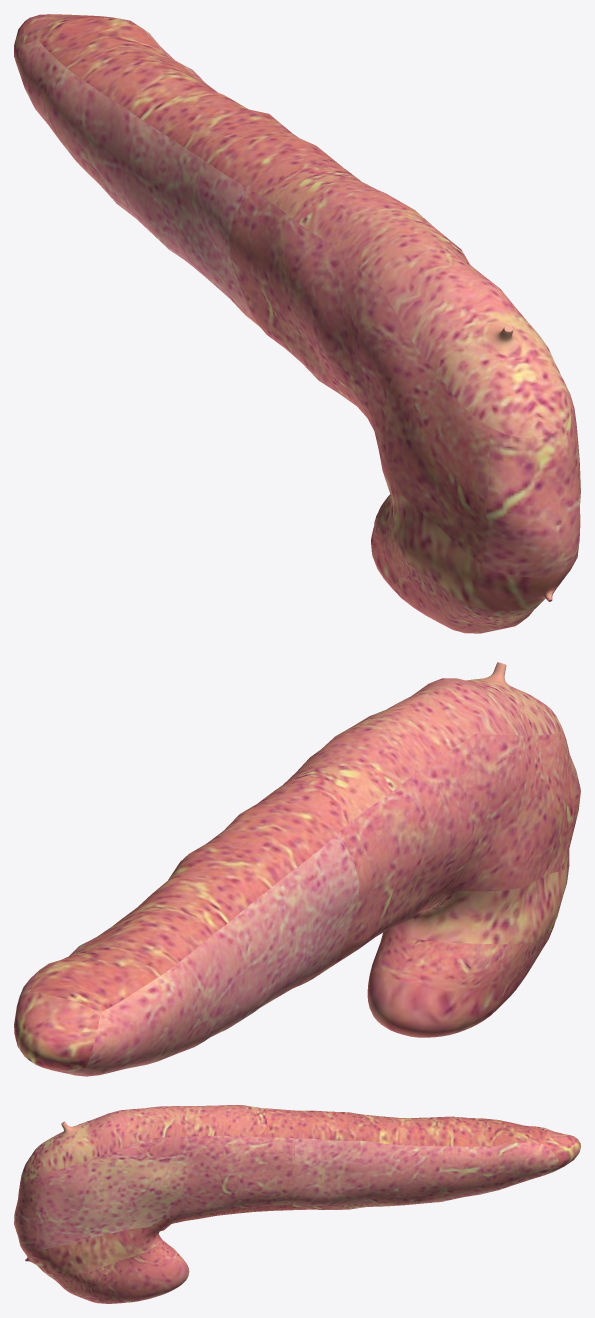
The model's file is pancreas.FBX.
The picture shows the model from 3 angles, top to bottom: view 1: azimuth 30°, elevation 25°; view 2: azimuth 150°, elevation 25°; view 3: azimuth 270°, elevation 25°; orthographic projection. The views are drawn at different scales.
Parts seen in each view (by area): view 1: Box001; view 2: Box001; view 3: Box001.
Boxes of the visible parts, <box> form: Box001: <box>14,14,580,633</box>; Box001: <box>14,662,580,1076</box>; Box001: <box>14,1105,580,1303</box>.
Size of the model in its own units: 1.24 by 2.87 by 7.67.
Materials: 1 (1 with a texture image).
